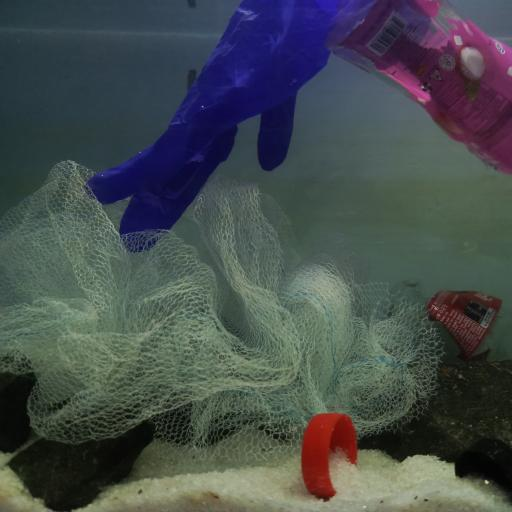bottle_cap: (302, 412, 358, 498), (453, 438, 512, 494)
glove: (88, 0, 368, 250)
net: (0, 159, 447, 465)
plastic_bottle: (329, 0, 512, 179), (391, 274, 512, 359)
